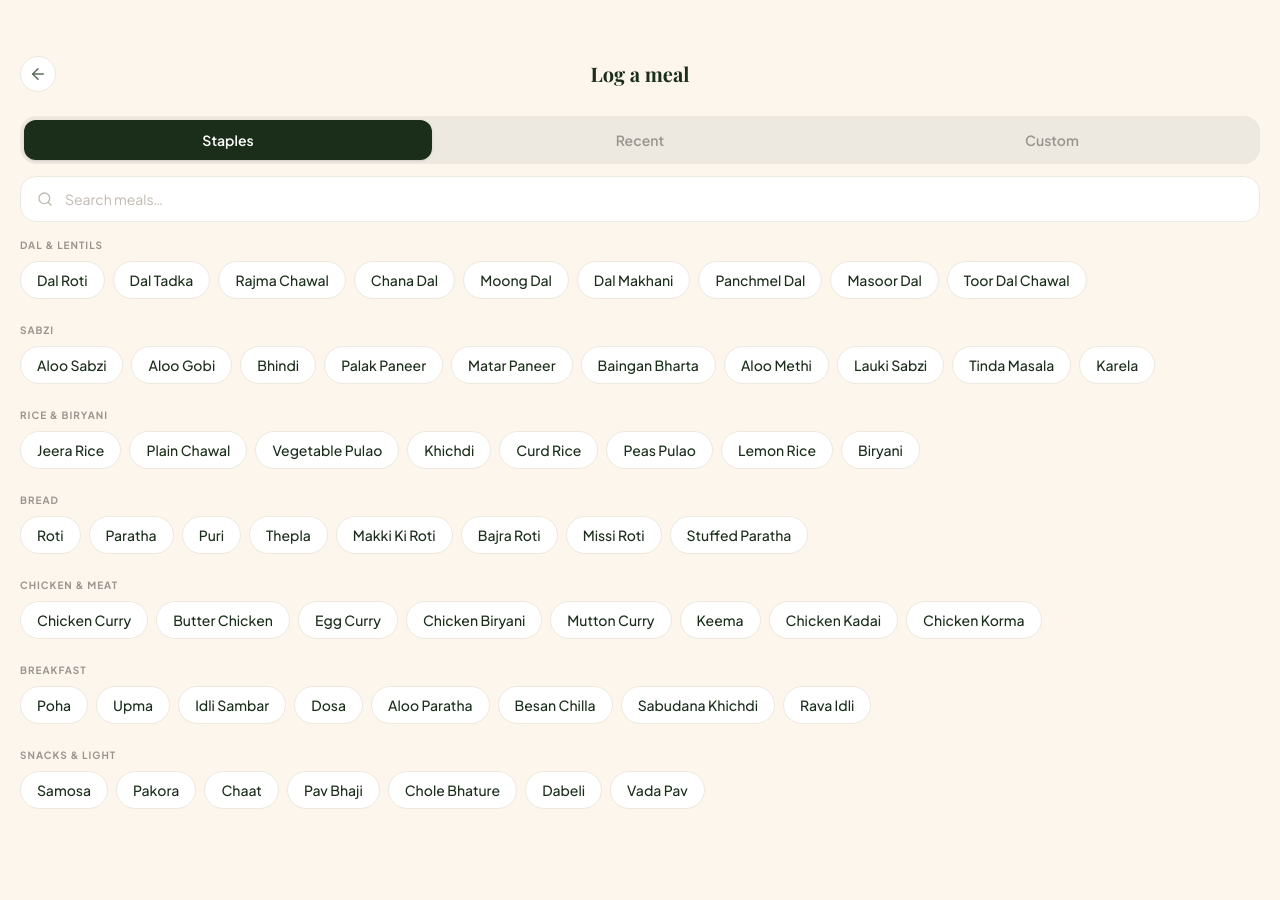
Scenario: QuickLog › Custom tab shows a text input
Click the button "Custom" at (1052, 140), box [848,120,1256,160]
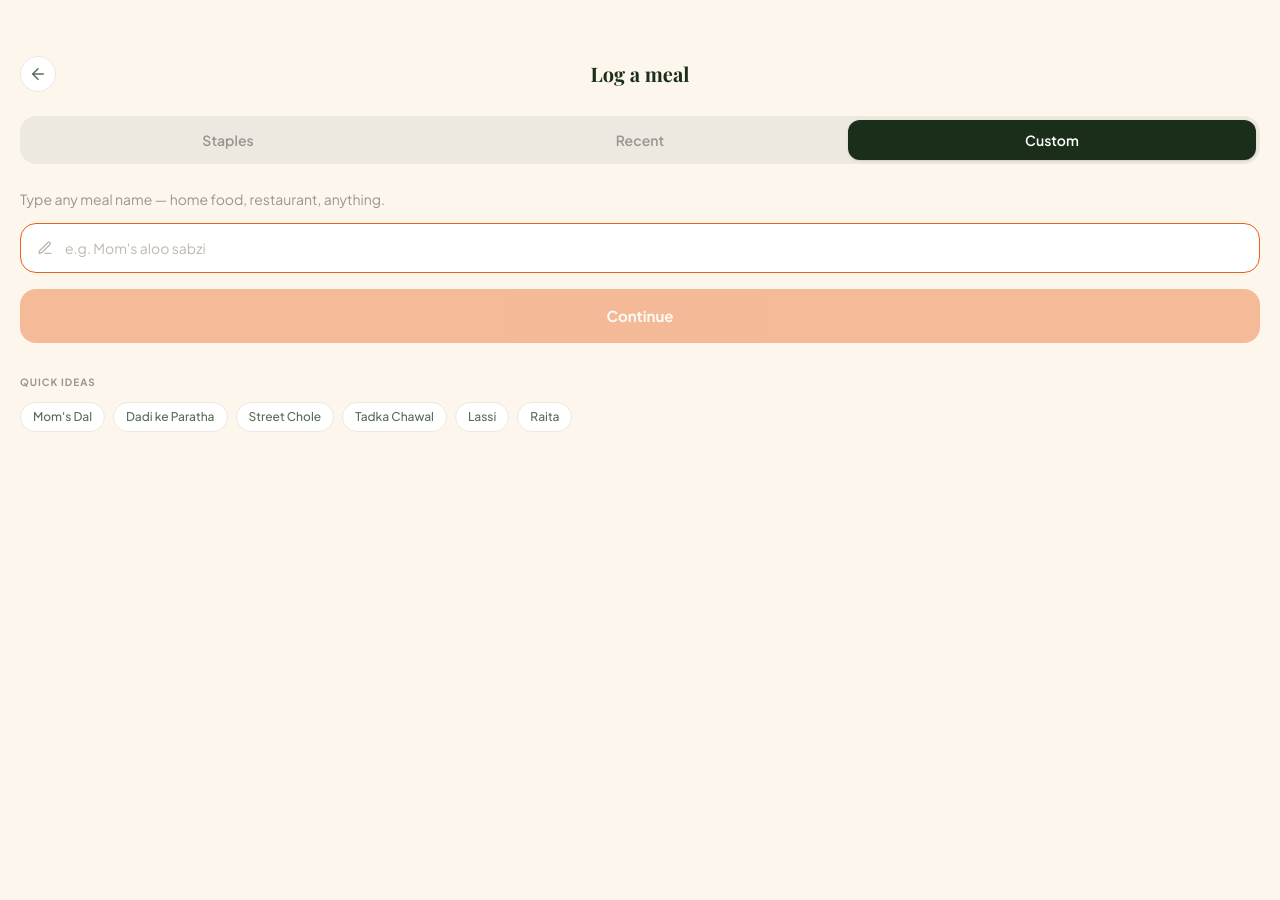
Now the field with placeholder "e.g. Mom's aloo sabzi" is shown, box [65,238,1243,258]
